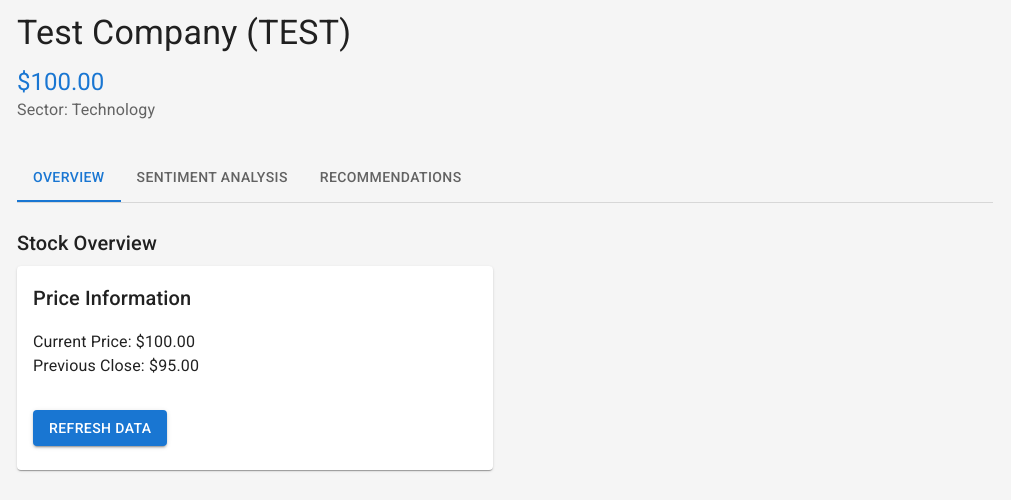
Test: sets error if refreshSentiment fails inside handleRefreshSentiment()
Click the tab "Sentiment Analysis" at (212,178), box x1=121 y1=154 x2=304 y2=202
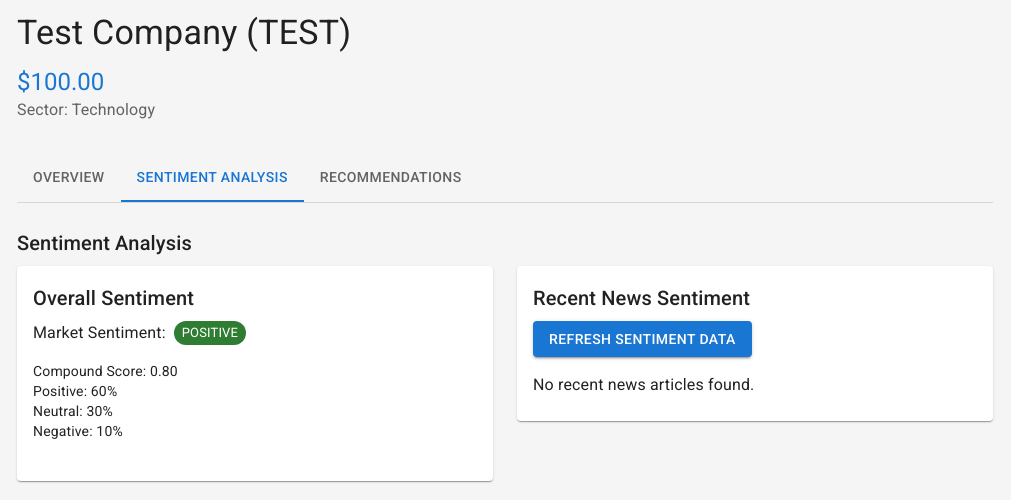
Click the button "Refresh Sentiment Data" at (642,339), box x1=533 y1=321 x2=752 y2=357
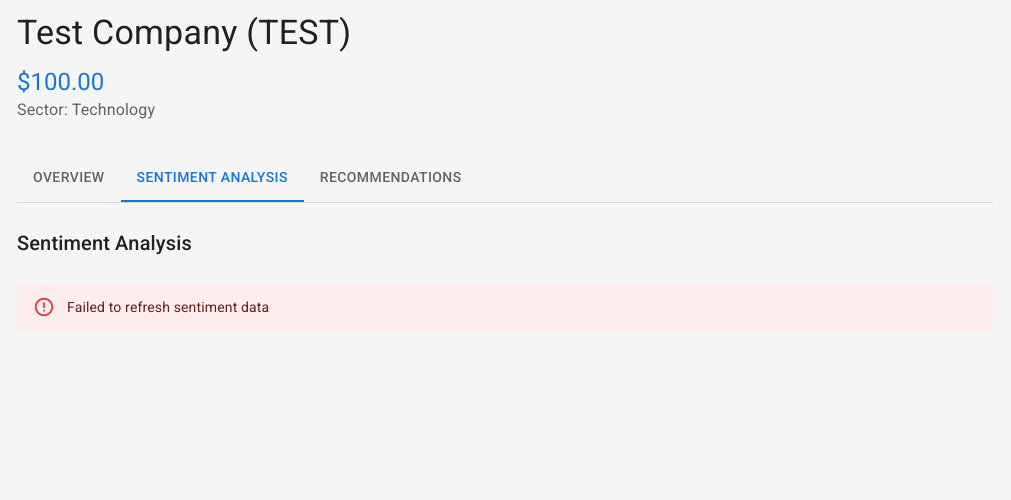
Expected: the text "Failed to refresh sentiment data" is shown, x1=67 y1=299 x2=269 y2=315
